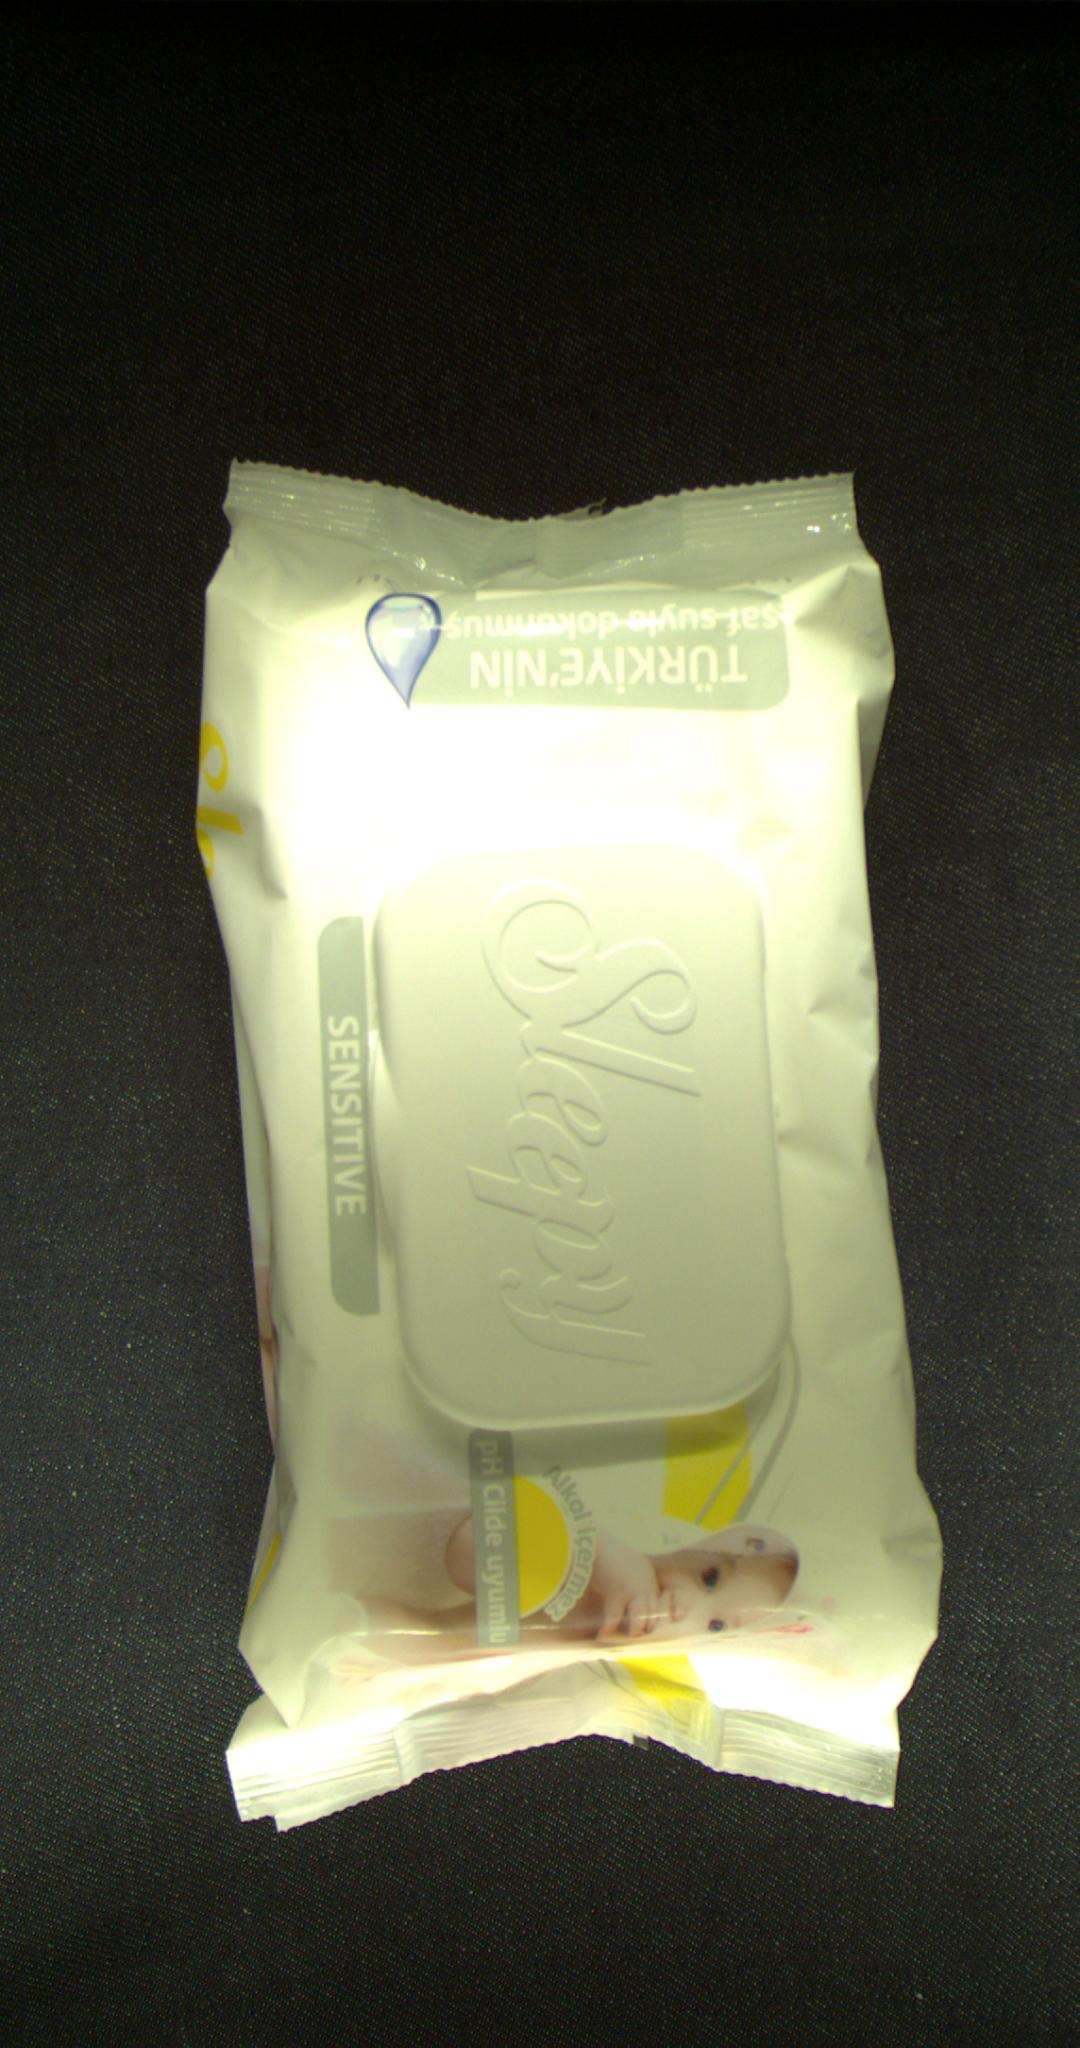kapak: (377, 833, 791, 1449)
